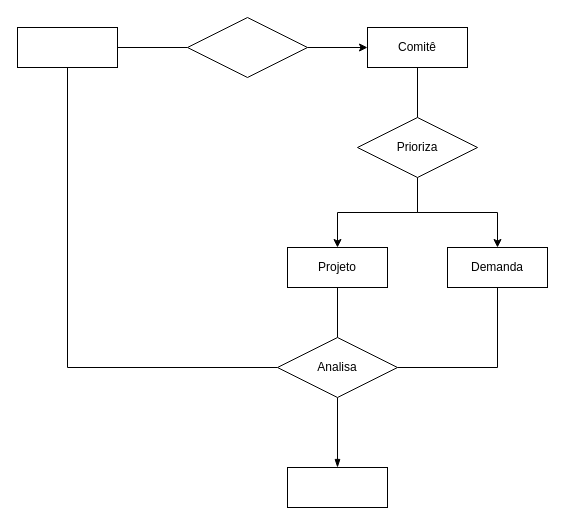
This 565x525 diagram has some shape labels left out. Each missing label, with the centre of its shape:
Matriz GUT: the point at 337,487
Participa: the point at 247,47
Pessoa: the point at 67,47
